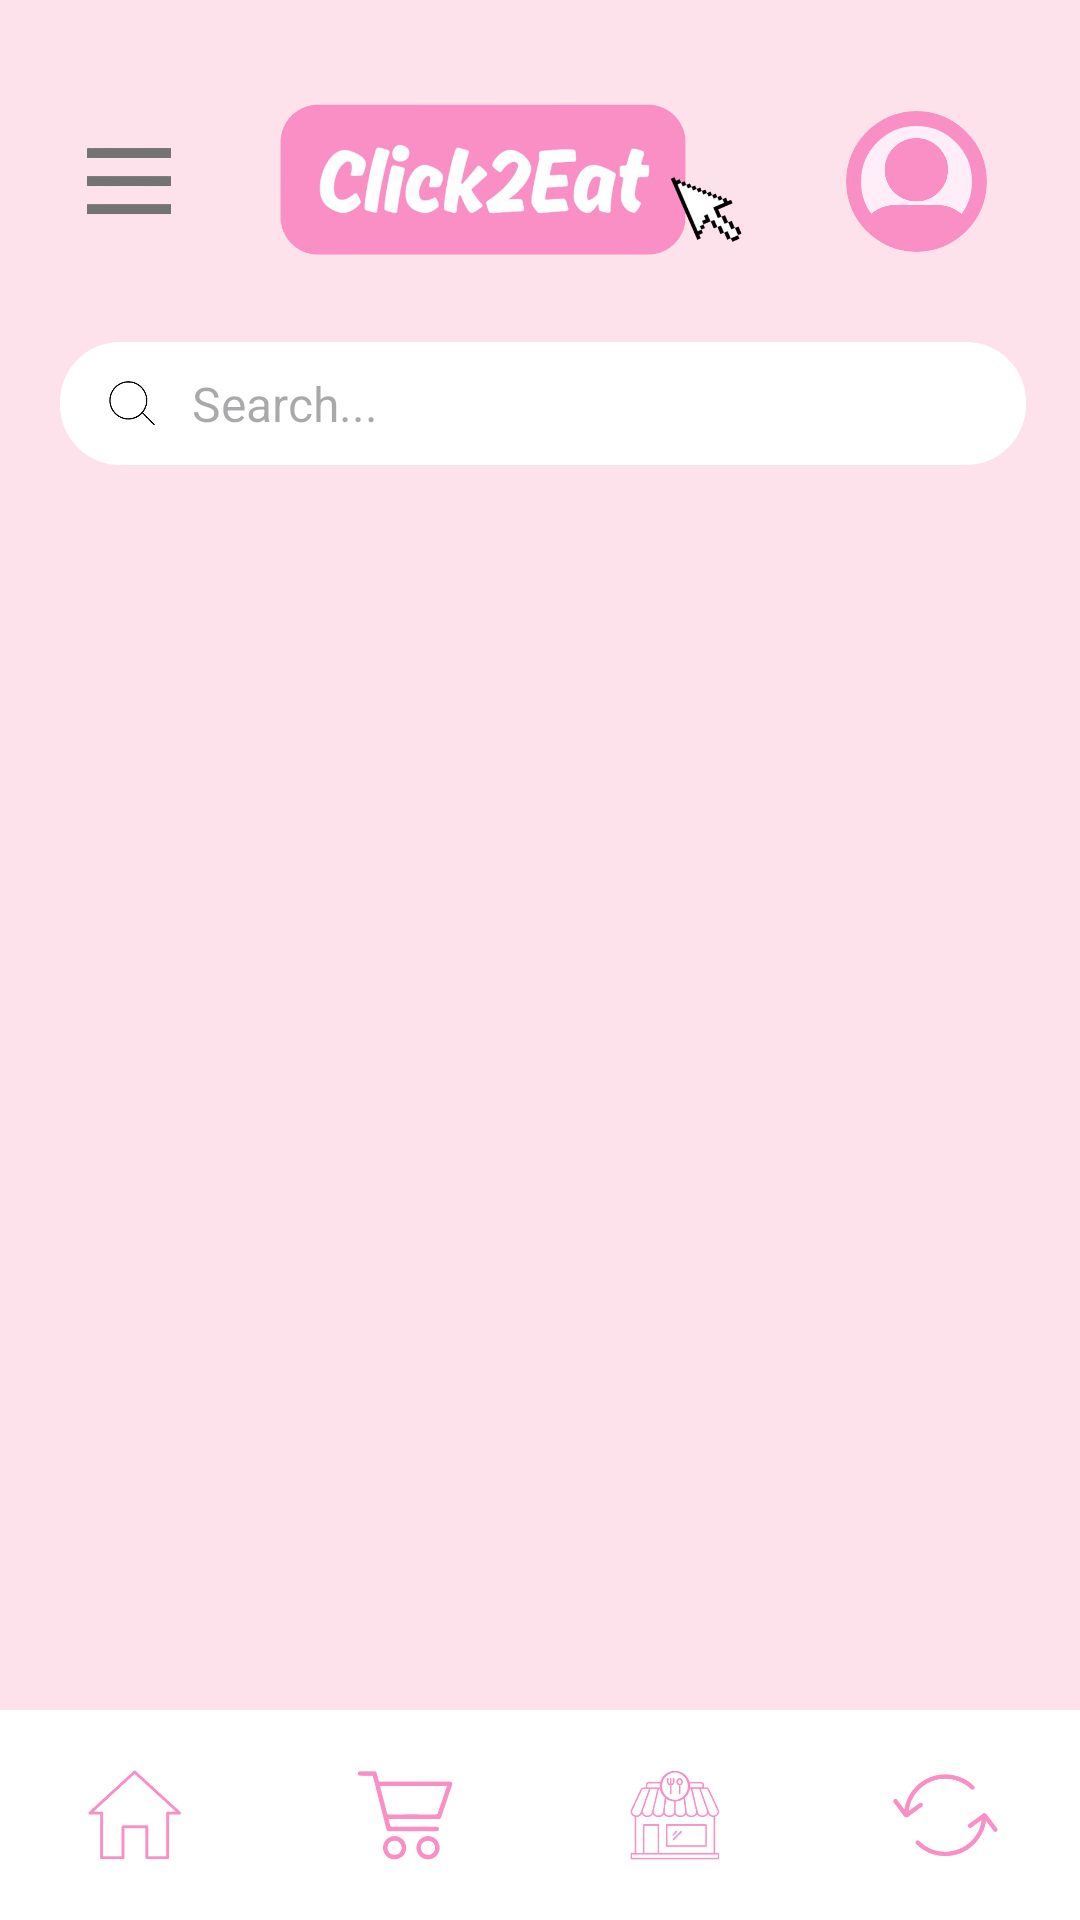

Icon click points for this 1080px×1920px phone screenshot, format [x,y]:
Cart: [405,1815]
Home: [134,1814]
Open profile: [916,181]
Restaurants: [674,1815]
